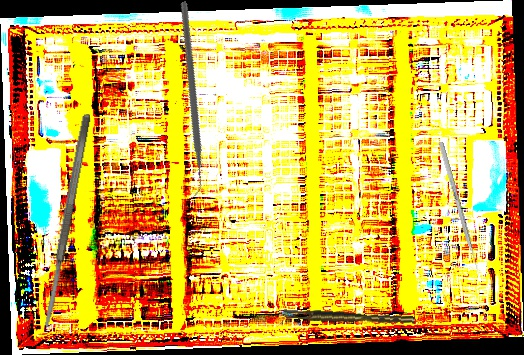Chopper: (91, 0, 283, 201)
Pusher: (438, 141, 482, 278)
Spatula Surgical: (40, 112, 93, 331)
Tissue Forceps: (283, 305, 416, 330)
